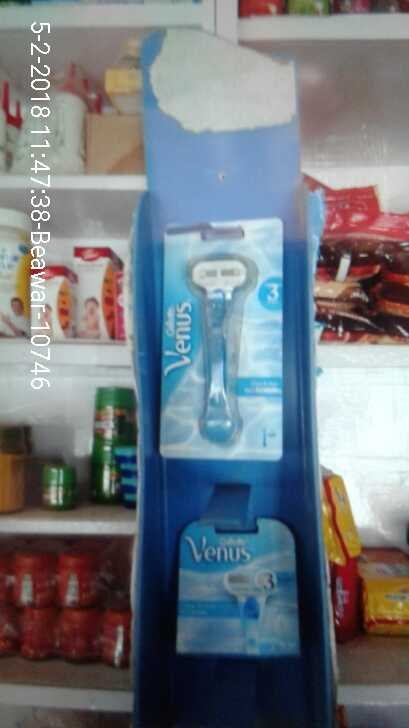venus: (155, 207, 281, 452), (170, 526, 303, 658)
